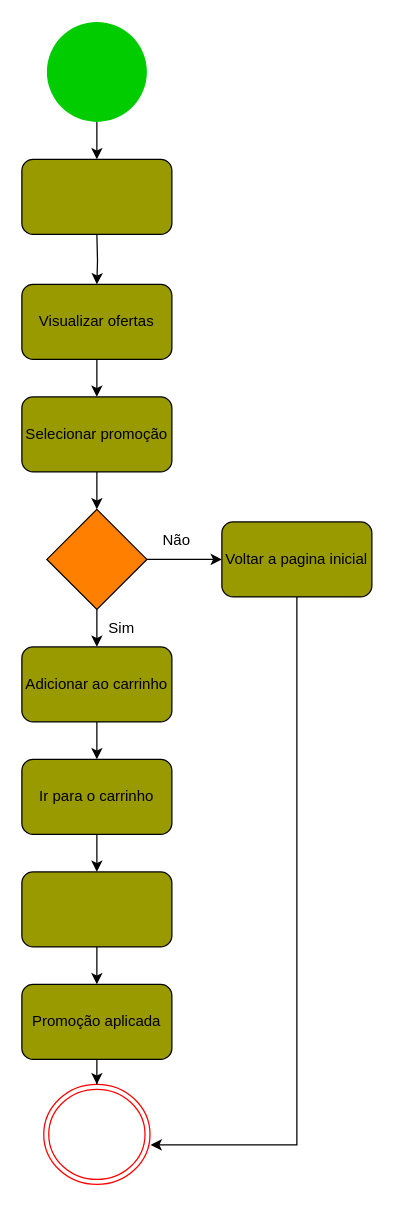
Some shapes in this 394 by 1206 pixel diagram are drawn without their labels. Each missing label, with the box of its shape:
Abrir promoções: (21, 158, 172, 234)
Deseja aproveitar?: (46, 508, 147, 609)
Finalizar compra: (21, 871, 172, 947)
